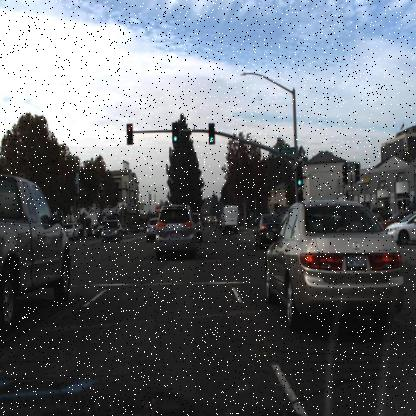car: (260, 198, 408, 328), (0, 179, 73, 325), (152, 200, 198, 258), (254, 208, 283, 258), (218, 198, 242, 240), (384, 210, 414, 242), (190, 209, 205, 254), (220, 203, 241, 234), (100, 219, 123, 244), (144, 211, 158, 247), (145, 213, 160, 244), (132, 226, 140, 235), (141, 225, 146, 235)
trafficLight: (296, 164, 304, 188), (171, 122, 179, 145), (208, 123, 216, 143), (126, 125, 132, 145)
trafficLight-Green: (294, 162, 305, 191)
